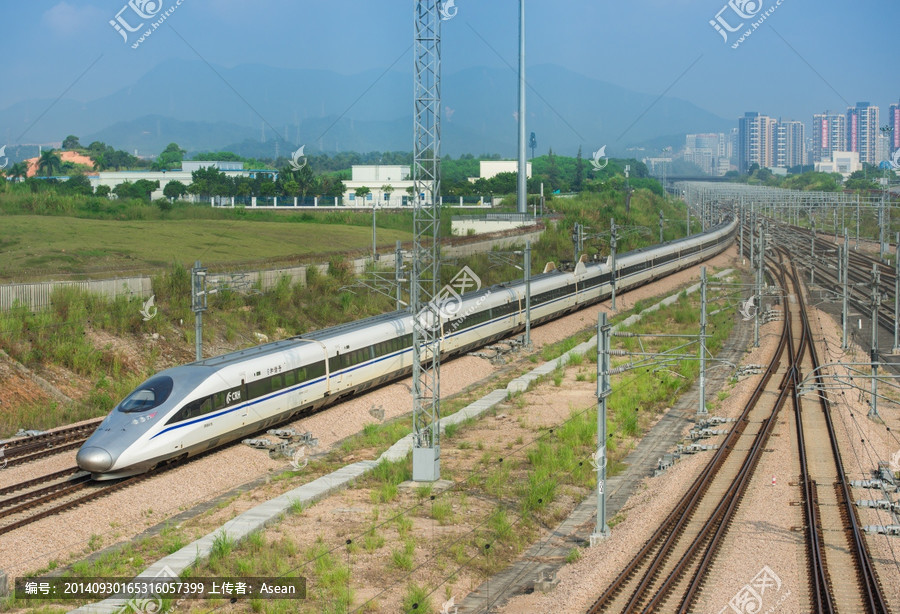hsrw: (70, 211, 744, 488)
